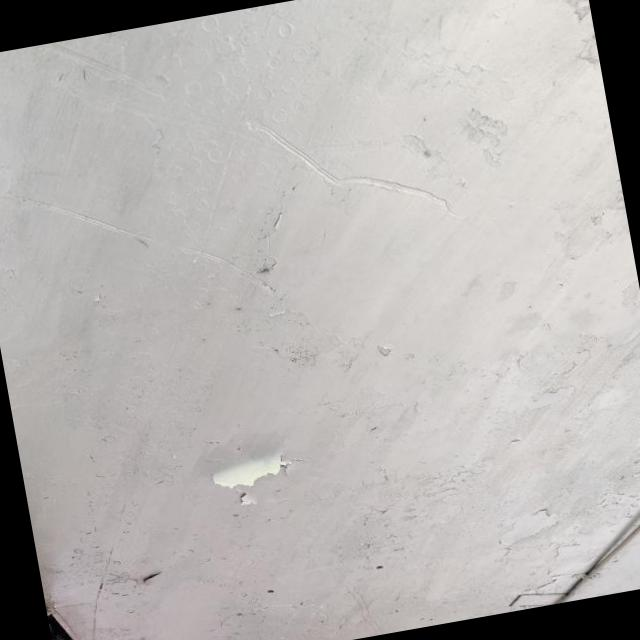Paint-off: (211, 455, 284, 488)
Scratch: (245, 119, 459, 216), (36, 44, 164, 111), (0, 193, 154, 246), (177, 247, 276, 295)
